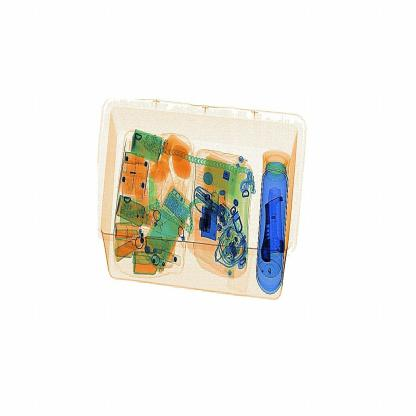pliers: (260, 183, 294, 261)
